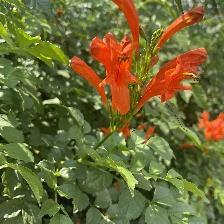honeysuckle: (88, 29, 138, 121)
